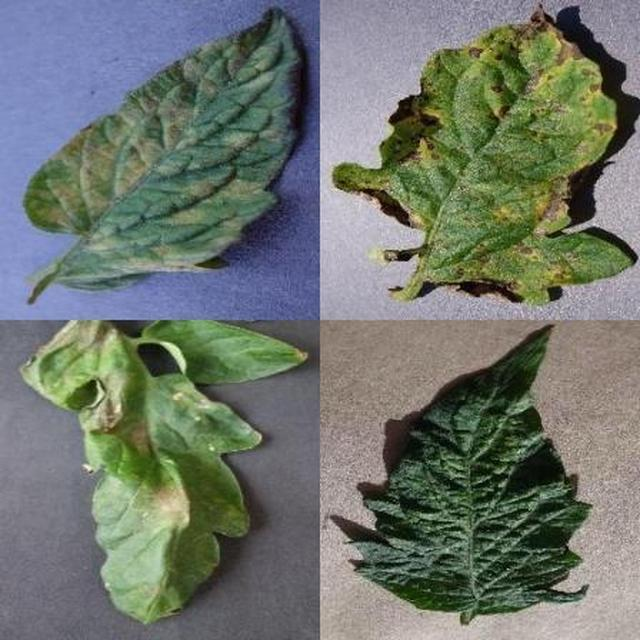Leaf Mold: (232, 210, 640, 640)
